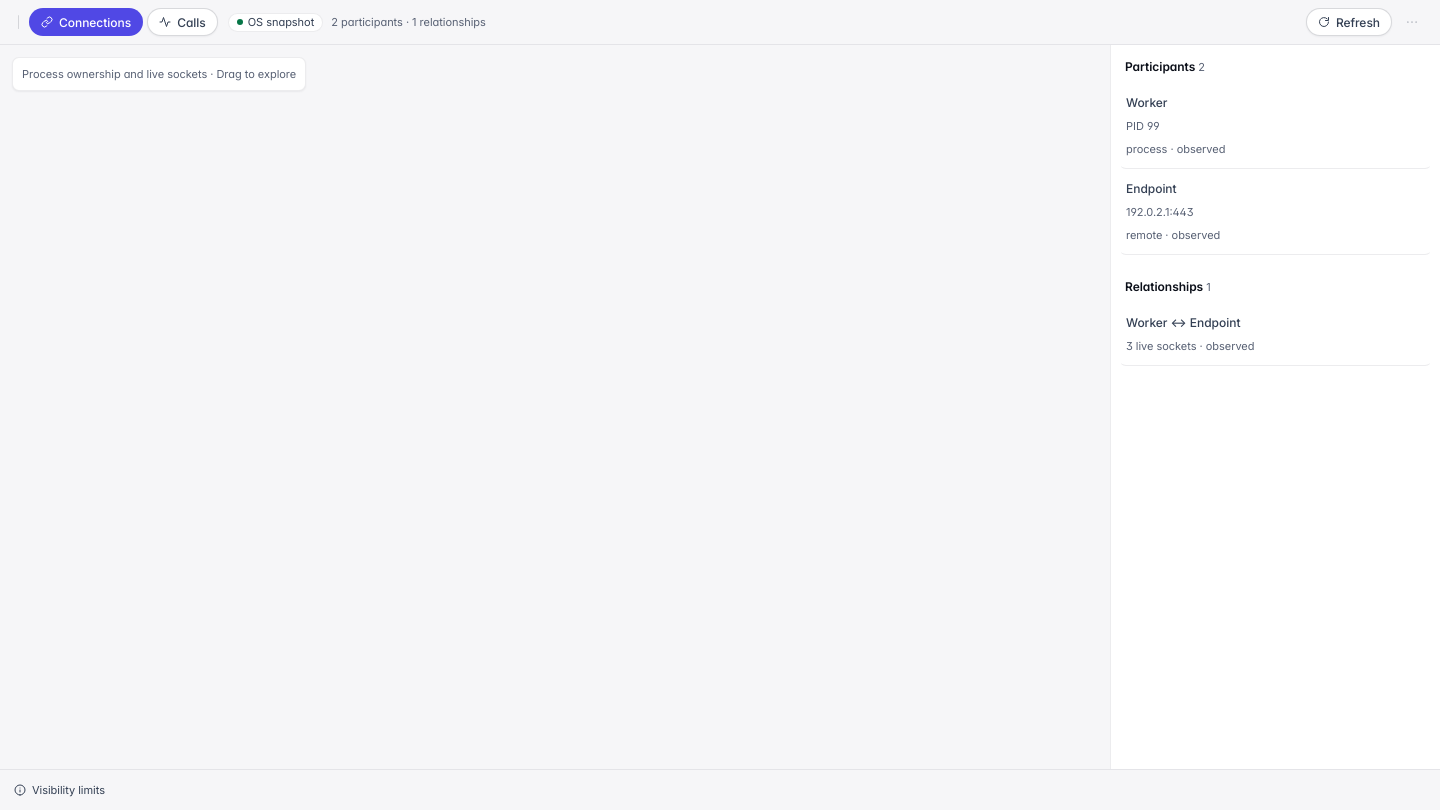
flow UI evidence and recording › hides the inspector so the graph uses the full width
The width and height of the screenshot is (1440, 810).
Check: the element named "Connection details" is shown, box [1110,45,1439,769]
Click the button named "View options" at (1412, 22), box [1398,8,1426,36]
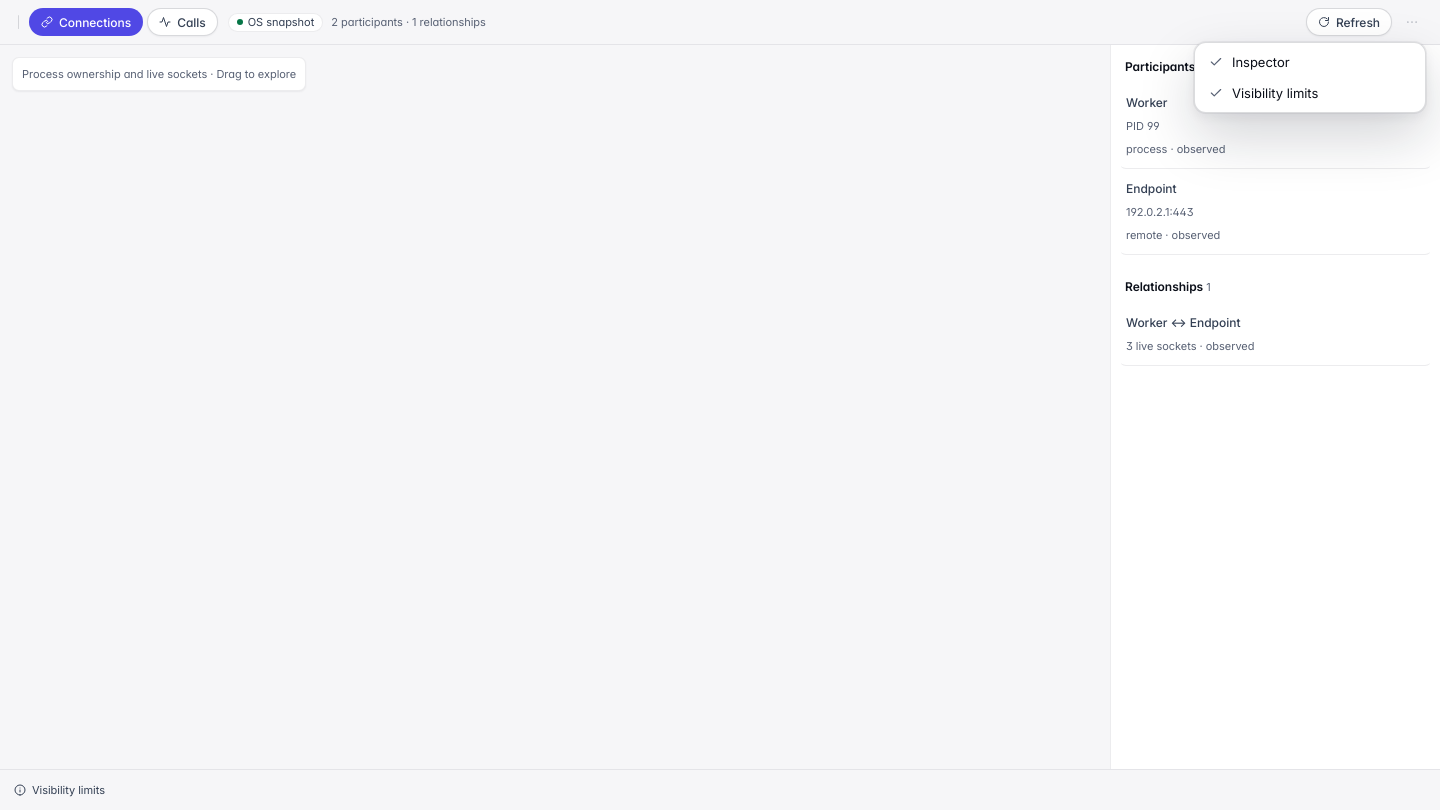
Click the menu item "Inspector" at (1310, 62), box [1199,47,1421,77]
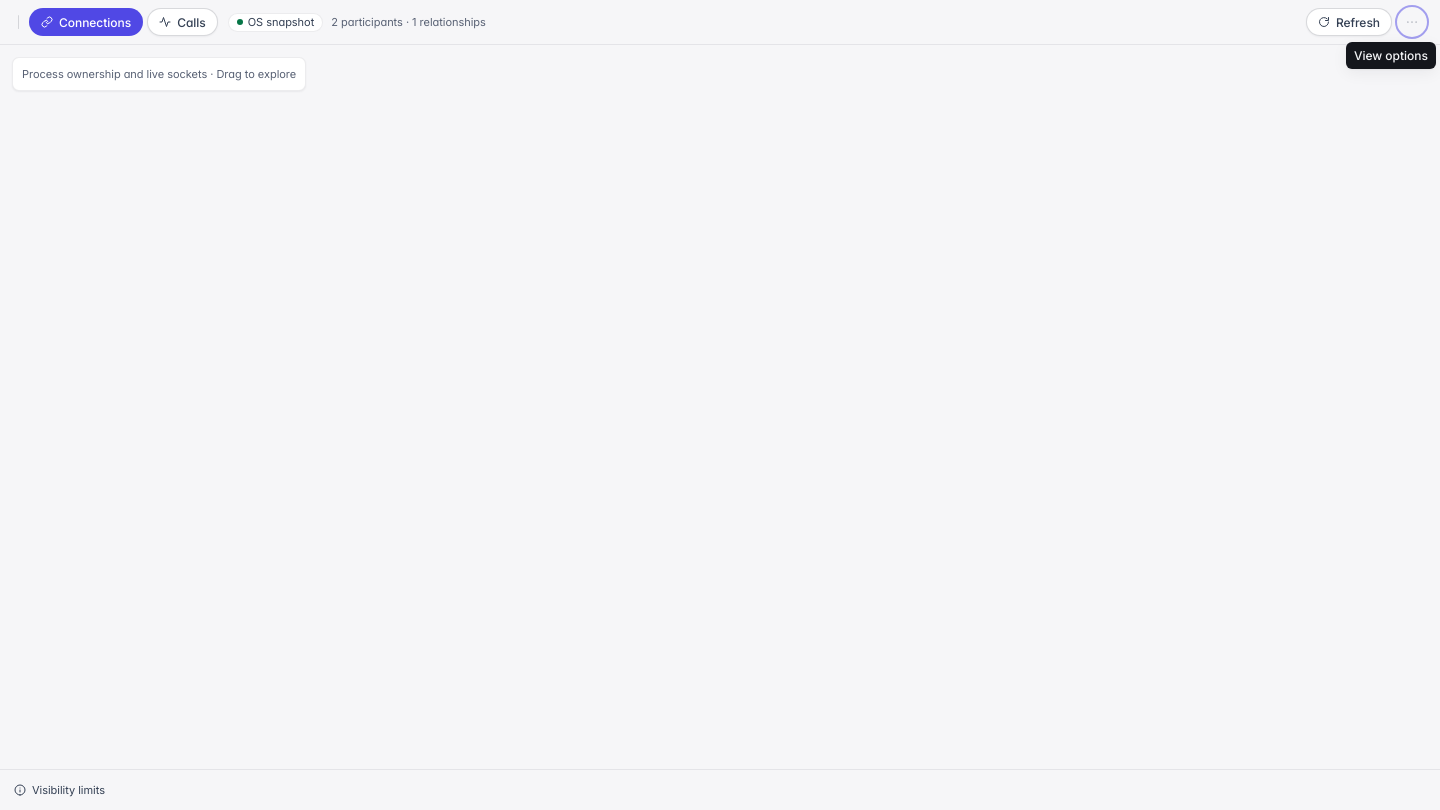
Click the button named "View options" at (1412, 22), box [1398,8,1426,36]
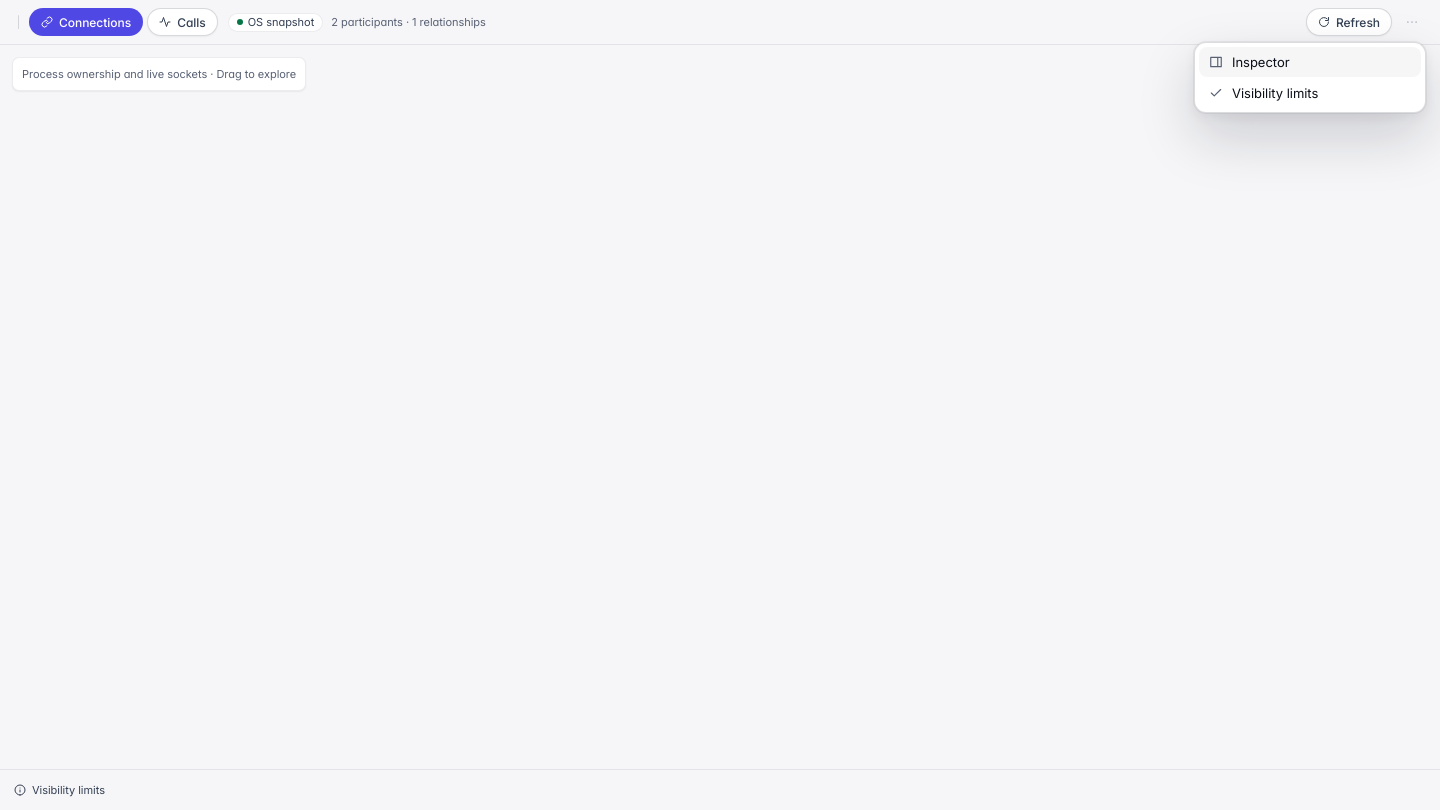
Check: the menu item "Inspector" is shown, box [1199,47,1421,77]
